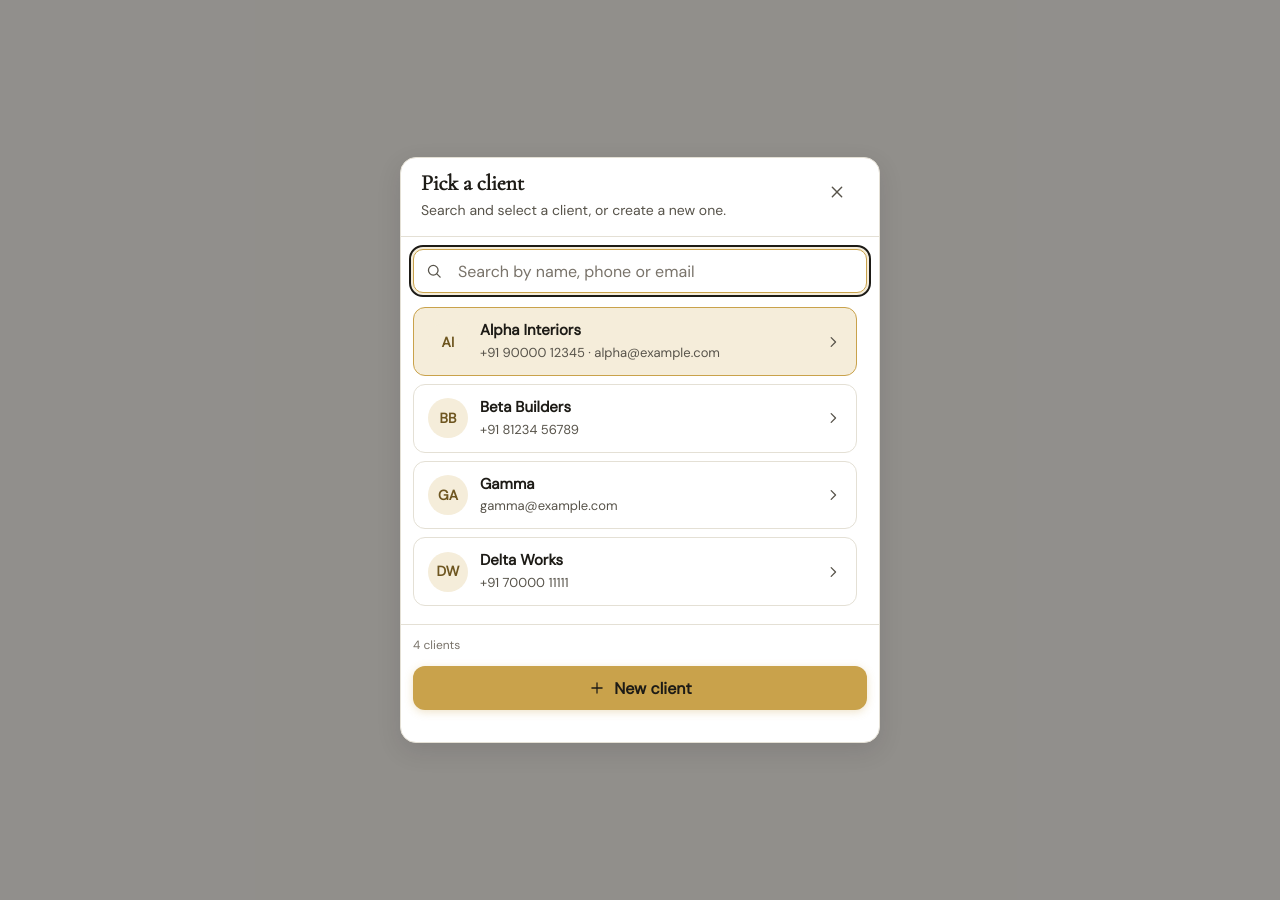
Test: Client picker — search › filters case-insensitively on name
Type "acme" into the search field with placeholder "Search by name, phone or email" at (640, 272), box [413,250,867,294]
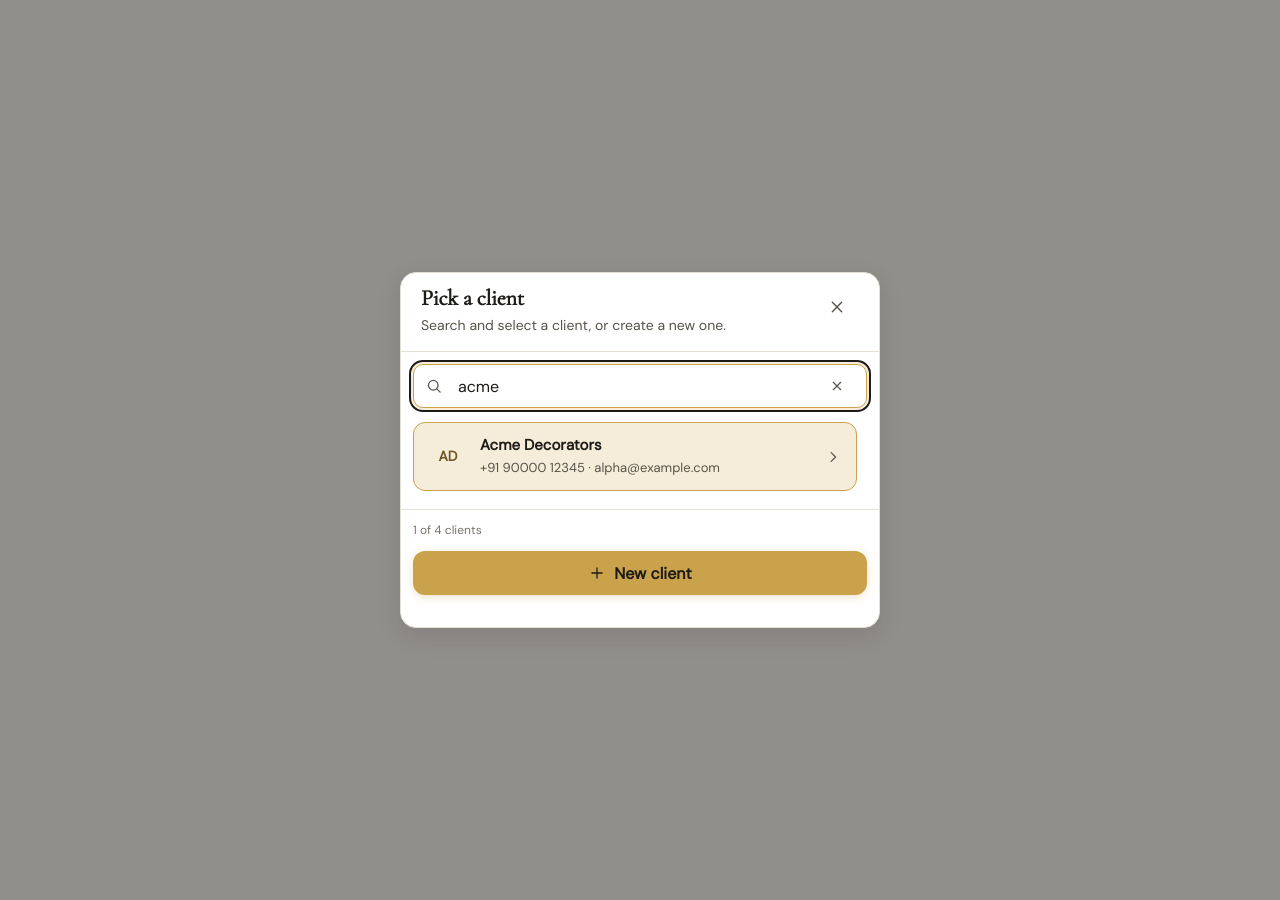
Expected: the option "AD Acme Decorators +91 90000 12345 · alpha@example.com" is shown, [413,422,857,491]
